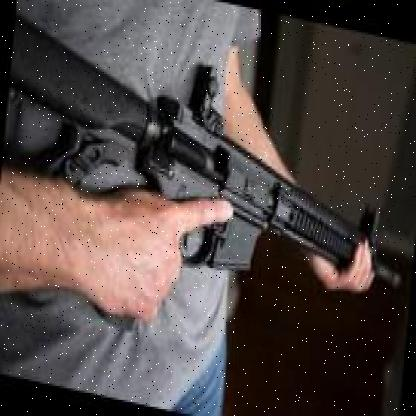rifle: (0, 13, 416, 324)
